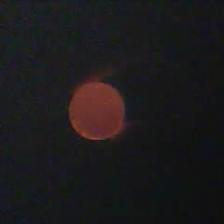infertile: (66, 81, 125, 141)
